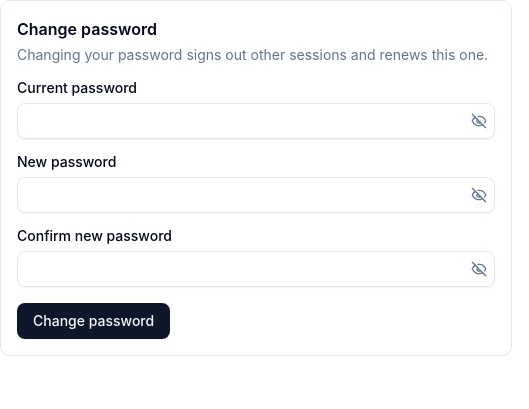
Test: Password form › validates New-valid-password without sending a request
The width and height of the screenshot is (529, 409).
Type "Current-test-password" into the password field labelled "Current password" at (256, 121), box [17,103,495,139]
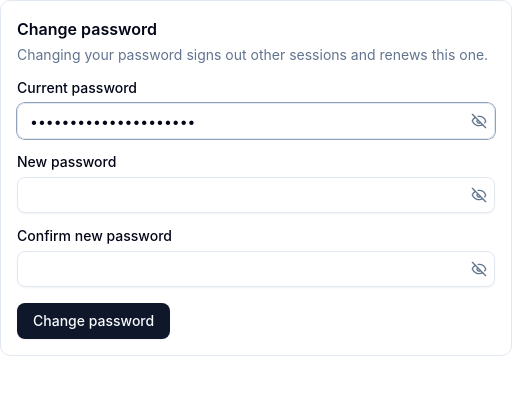
Type "New-valid-password" into the password field labelled "New password" at (256, 195), box [17,177,495,213]
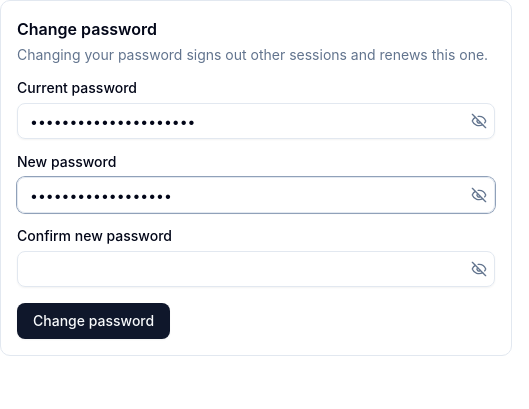
Type "different-password" into the password field labelled "Confirm new password" at (256, 269), box [17,251,495,287]
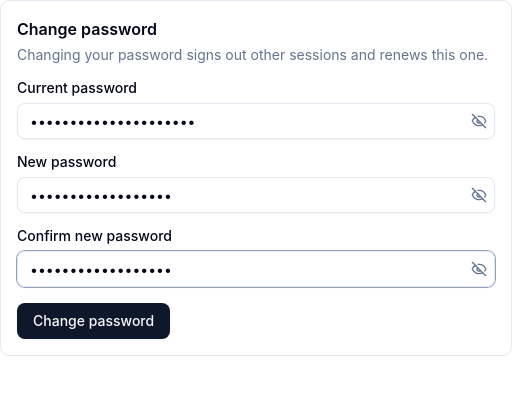
Click the button "Change password" at (94, 321), box [17,303,170,339]
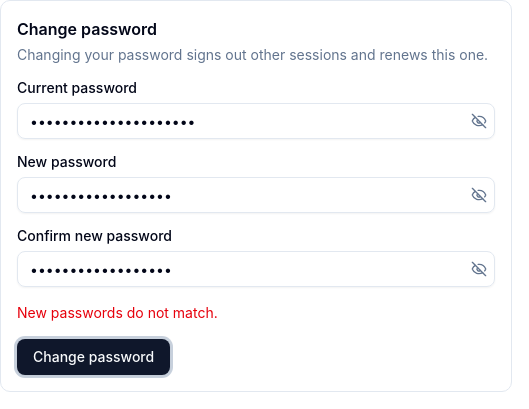
Expected: the message shows "do not match", [17,304,218,321]
